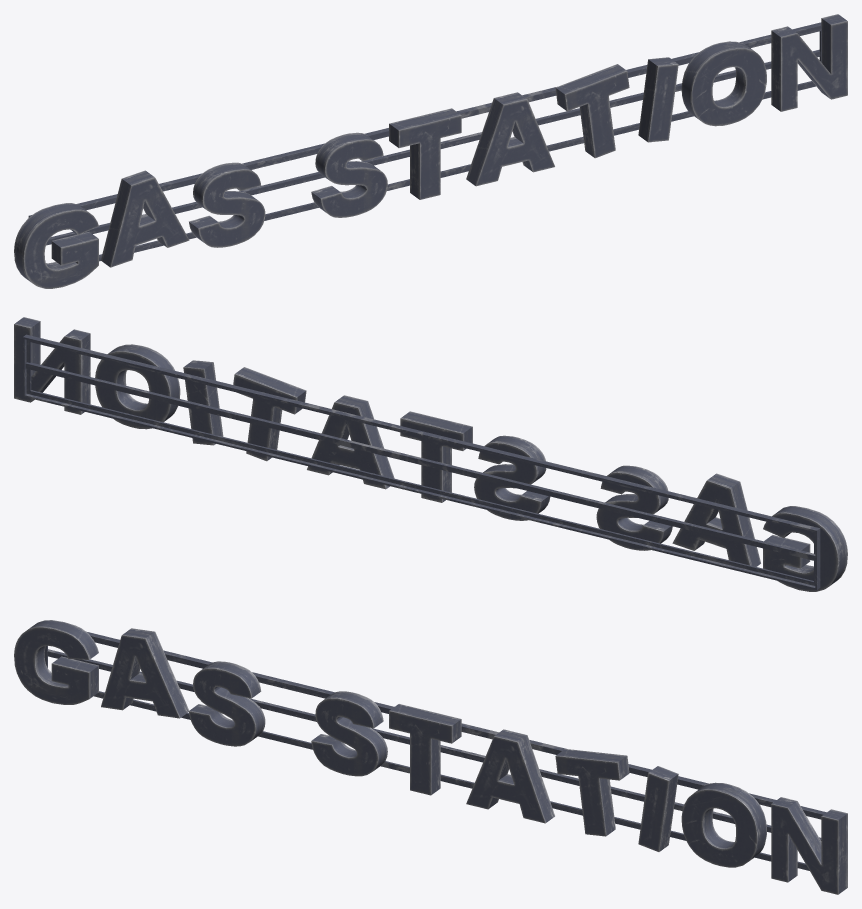
The model's file is Gas_Station1.fbx.
3 views of the same model, one above another, from view 1: azimuth 30°, elevation 25°; view 2: azimuth 150°, elevation 25°; view 3: azimuth 330°, elevation 25° (orthographic).
Parts seen in each view (by area): view 1: polySurface389; view 2: polySurface389; view 3: polySurface389.
Part boxes in pixels (bbox=[...]): polySurface389: bbox=[14, 14, 847, 288]; polySurface389: bbox=[14, 317, 847, 591]; polySurface389: bbox=[14, 620, 847, 894].
Bounding box in the file's own units: 966 × 98.83 × 26.67.
1 material, 1 textured.
